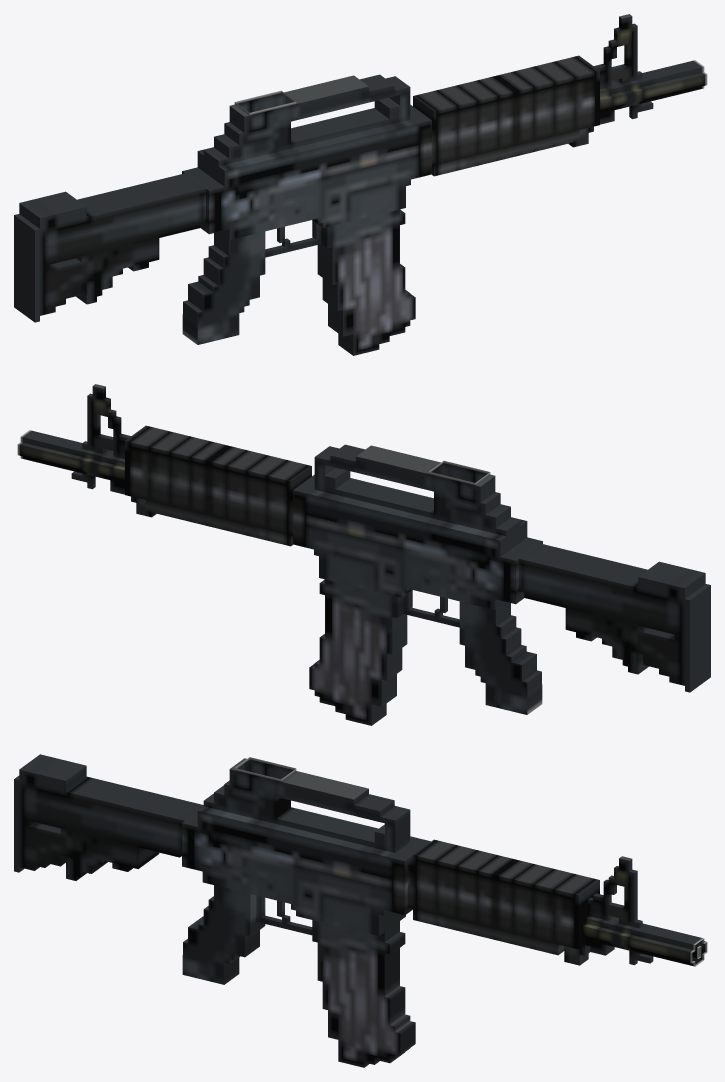
The model's file is sung_4.fbx.
3 views of the same model, one above another, from view 1: azimuth 30°, elevation 25°; view 2: azimuth 150°, elevation 25°; view 3: azimuth 330°, elevation 25° (orthographic).
Visible parts, largest first — view 1: defaut gun.004; view 2: defaut gun.004; view 3: defaut gun.004.
Boxes of the visible parts, x1=… form: defaut gun.004: x1=14, y1=14, x2=707, y2=355; defaut gun.004: x1=17, y1=384, x2=710, y2=725; defaut gun.004: x1=14, y1=754, x2=707, y2=1067.
Size of the model in its own units: 1310 by 500 by 90.
